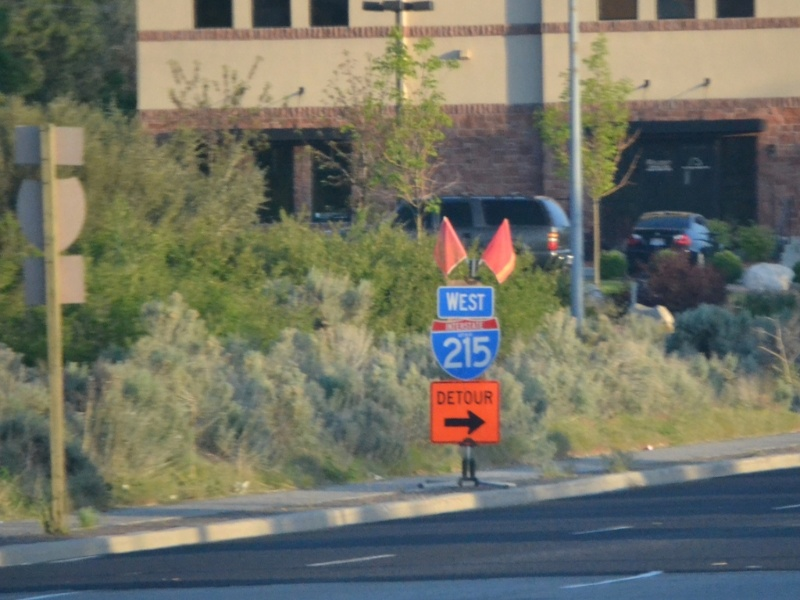right_direction: (429, 405, 504, 447)
